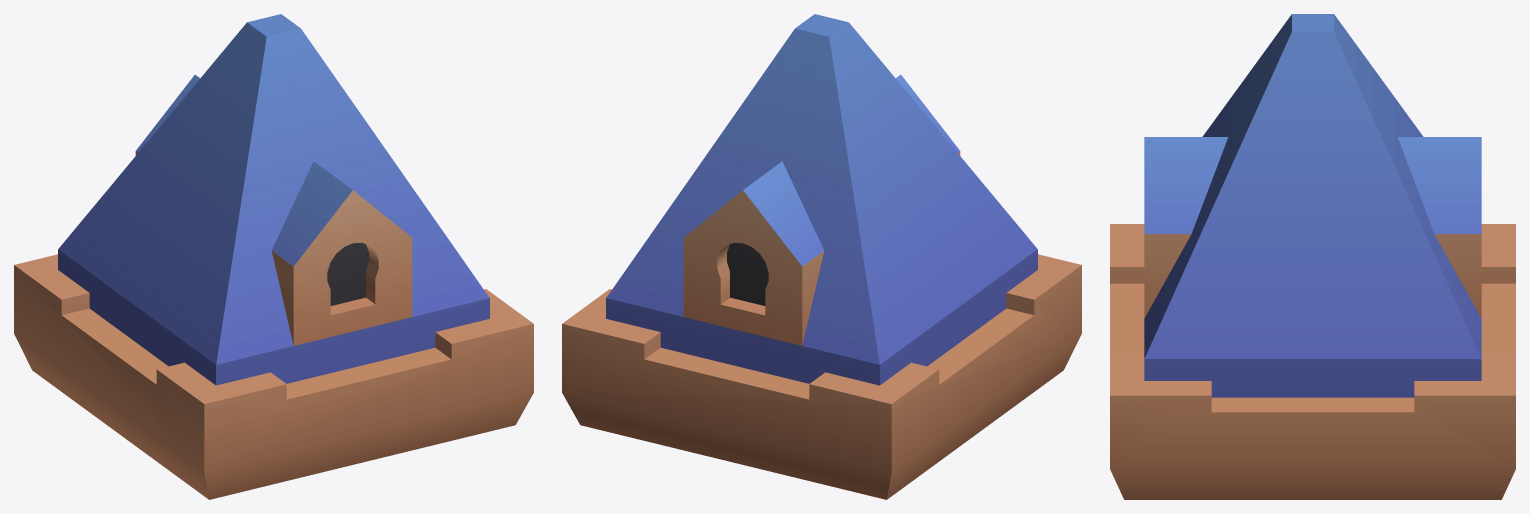
File: tower-square-top-roof-high-windows.obj
3 views of the same model, side by side, from view 1: azimuth 30°, elevation 25°; view 2: azimuth 150°, elevation 25°; view 3: azimuth 270°, elevation 25° (orthographic). The views are drawn at different scales.
Parts seen in each view (by area): view 1: tower-square-top-roof-high-windows; view 2: tower-square-top-roof-high-windows; view 3: tower-square-top-roof-high-windows.
Boxes of the visible parts, x1=… form: tower-square-top-roof-high-windows: x1=14, y1=14, x2=533, y2=499; tower-square-top-roof-high-windows: x1=562, y1=14, x2=1081, y2=499; tower-square-top-roof-high-windows: x1=1110, y1=14, x2=1515, y2=499.
Bounding box in the file's own units: 1 × 1.08 × 1.
1 material, 1 textured.
